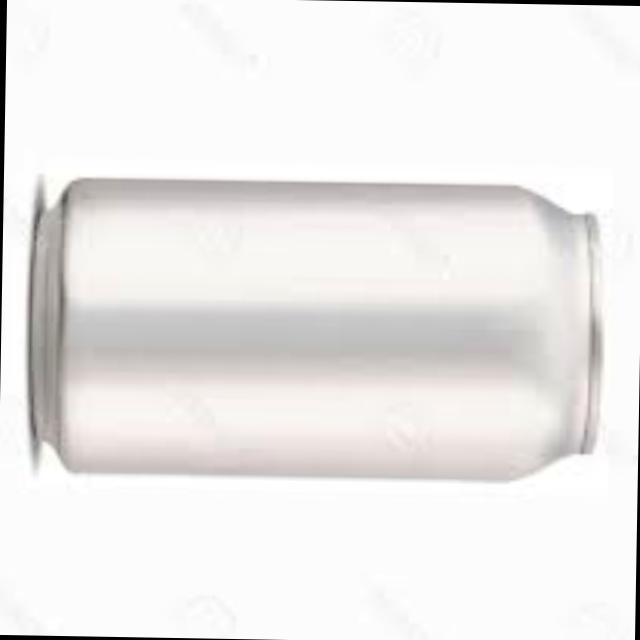metal: (36, 177, 603, 474)
